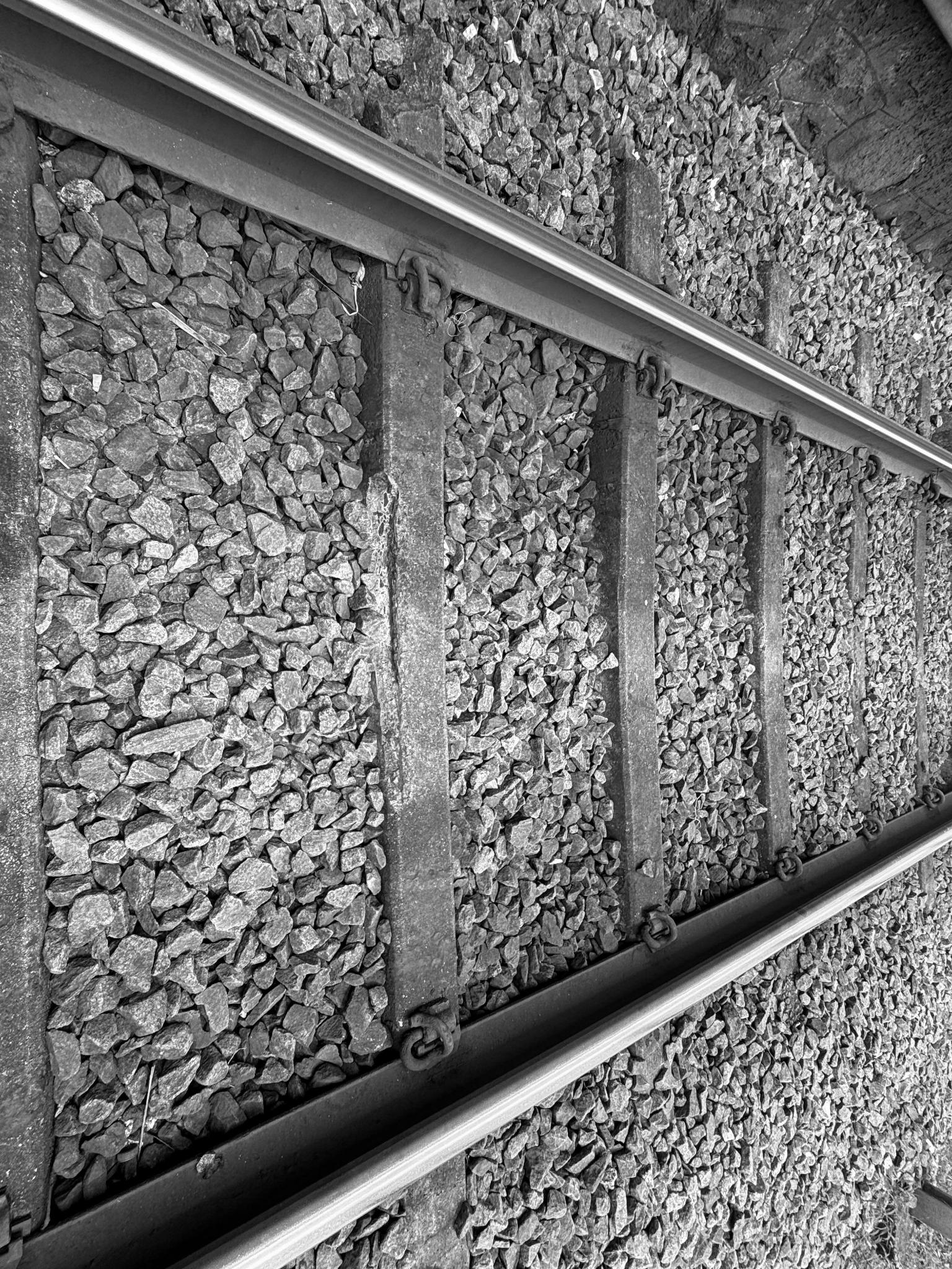cracks in midportion: (439, 523, 806, 603)
